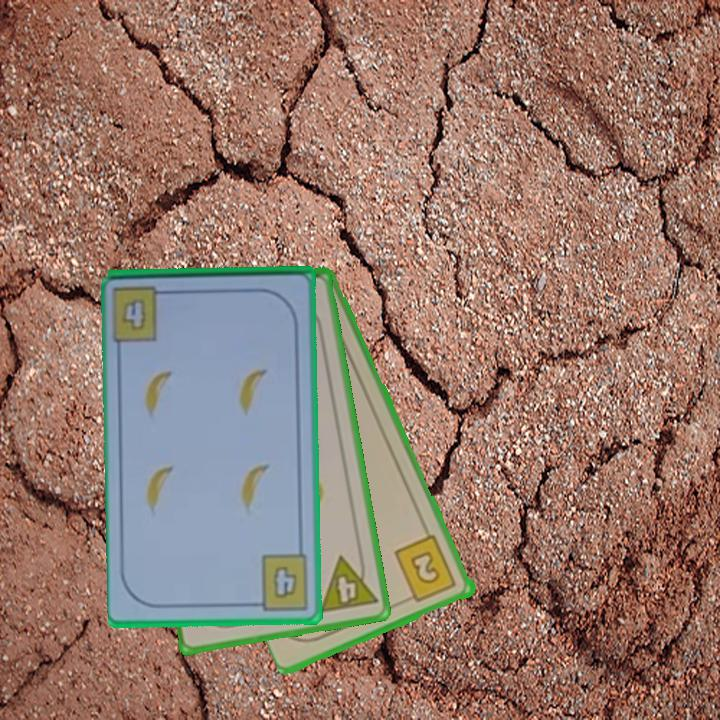2b: (391, 532, 460, 606)
4b: (248, 551, 312, 613), (119, 295, 150, 334)
4p: (315, 549, 380, 616)
